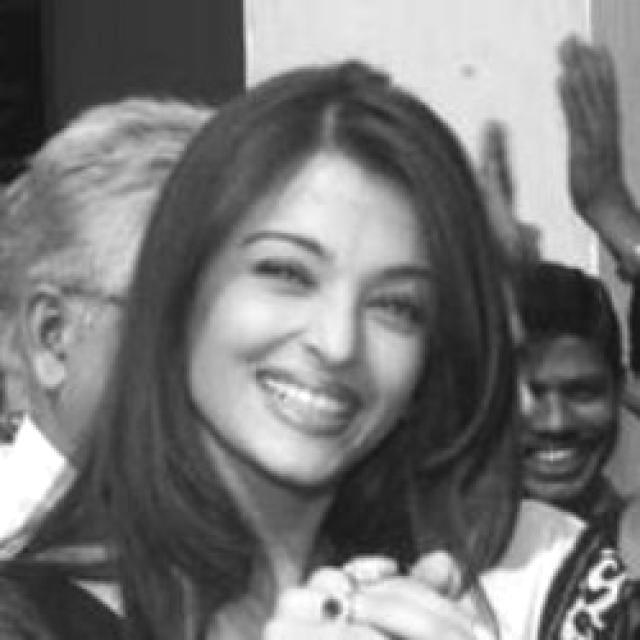real: (184, 82, 496, 478), (529, 268, 626, 508), (240, 235, 430, 346)
